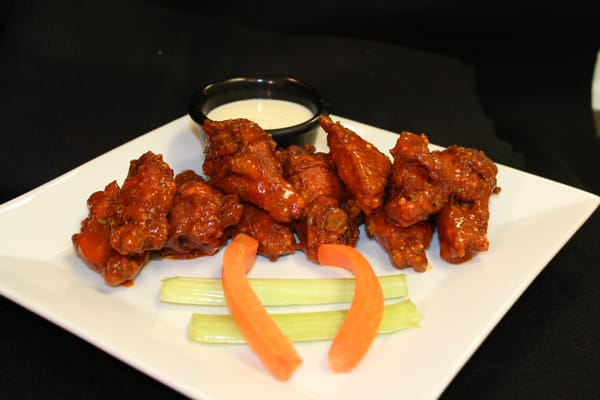curry: (0, 4, 594, 389)
